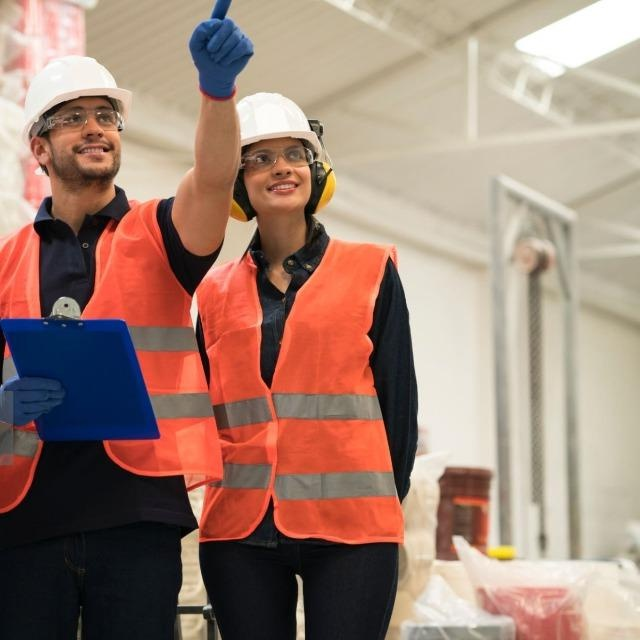Con_Casco: (26, 54, 136, 188)
Con_Chaleco: (0, 197, 216, 507), (200, 237, 405, 536)
